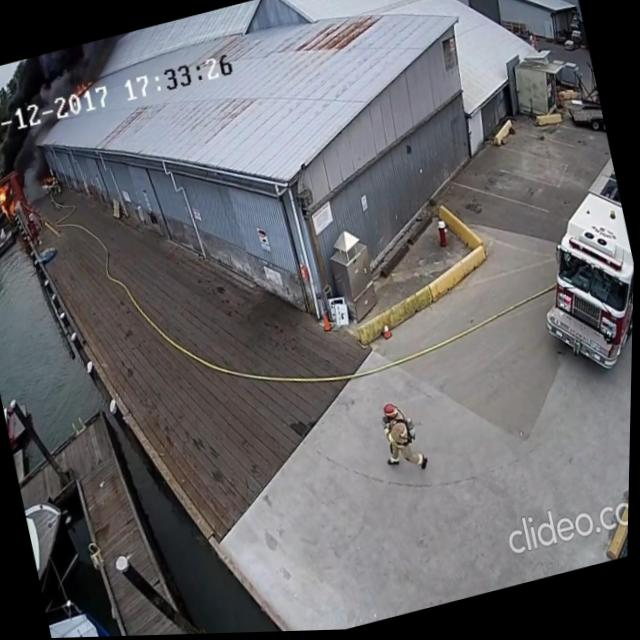fire: (0, 175, 22, 224), (69, 75, 97, 98), (40, 173, 58, 187)
